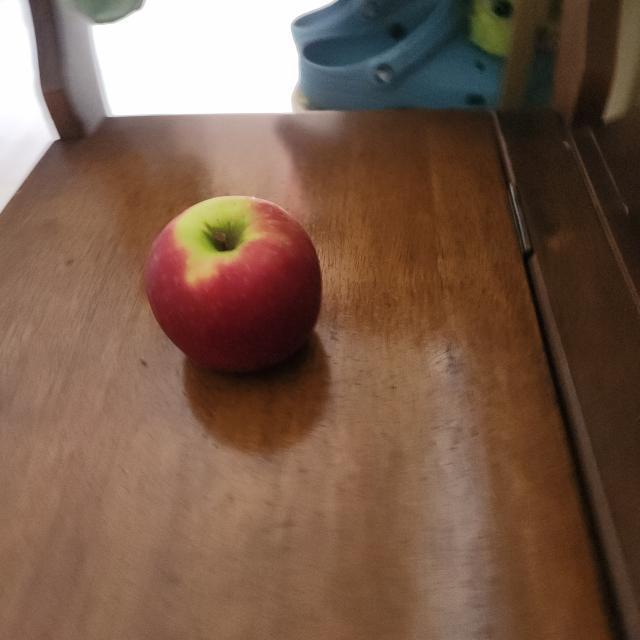apple: (141, 188, 325, 392)
